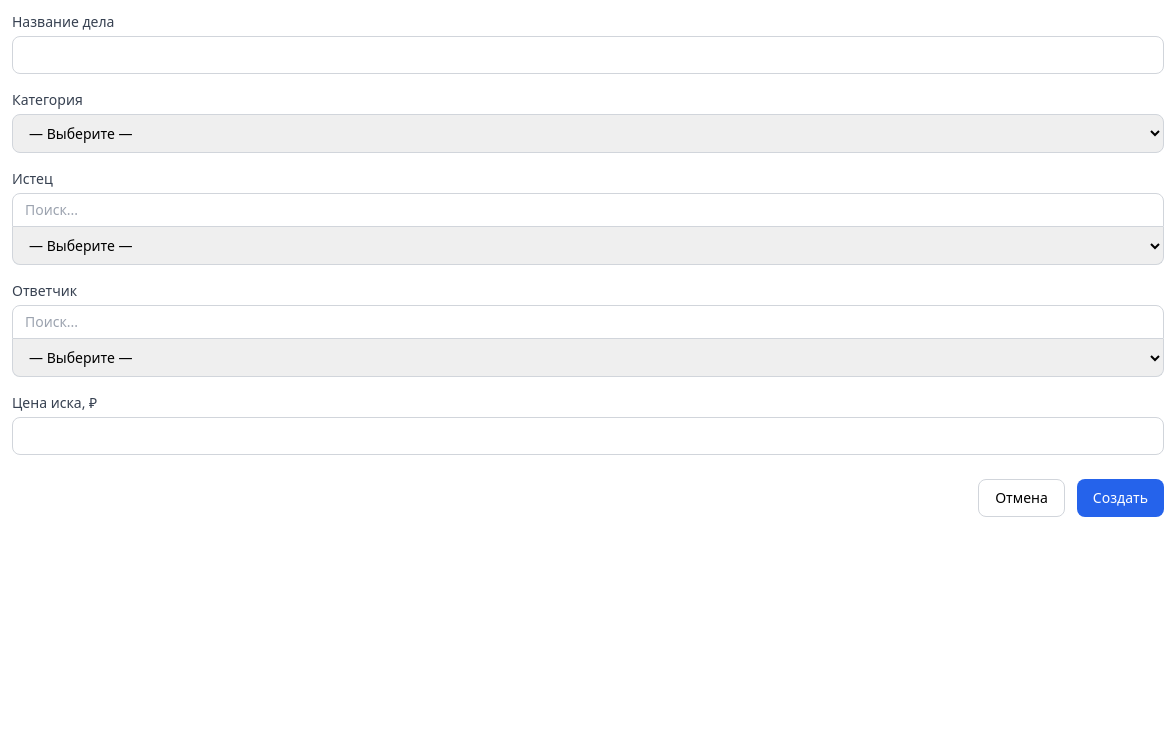
it: CaseForm › validates required name
Click the button "Создать". click: [1120, 498]
box: [1077,479,1164,517]
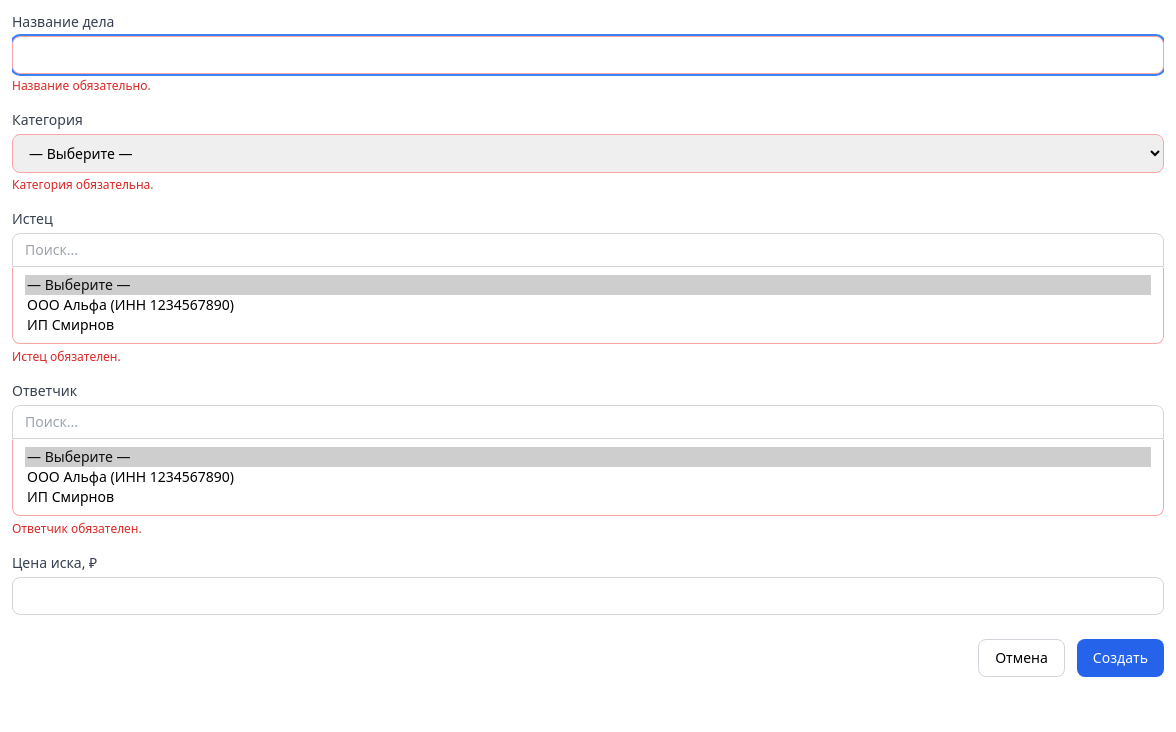
Expected: the text "Название обязательно." is shown, [12,77,151,94]
